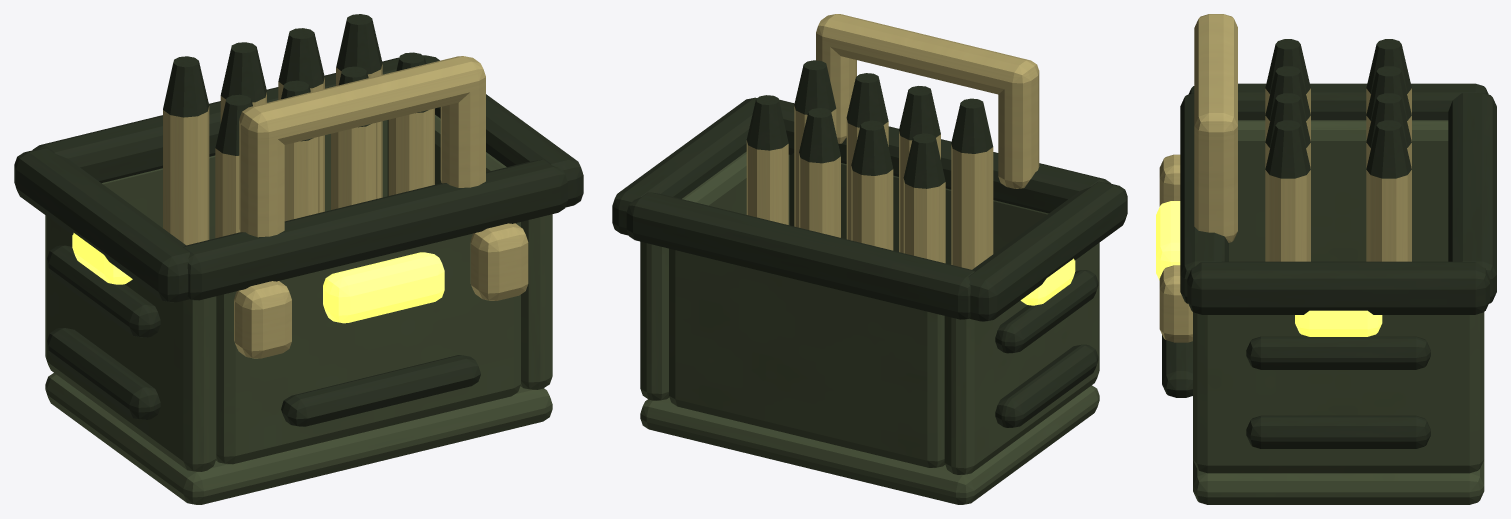
The model's file is pickup_ammo_box.glb.
The picture shows the model from 3 angles, left to right: view 1: azimuth 30°, elevation 25°; view 2: azimuth 150°, elevation 25°; view 3: azimuth 270°, elevation 25°; orthographic projection. The views are drawn at different scales.
Visible parts, largest first — view 1: pickup_ammo_box_wall_f, pickup_ammo_box_rim_f, pickup_ammo_box_wall_l, pickup_ammo_box_floor, pickup_ammo_box_rim_l, pickup_ammo_box_handle_bar, pickup_ammo_box_stencil, pickup_ammo_box_badge, pickup_ammo_box_rim_b, pickup_ammo_box_round_r10, pickup_ammo_box_wall_r, pickup_ammo_box_rib_l0 (+19 smaller); view 2: pickup_ammo_box_wall_b, pickup_ammo_box_rim_b, pickup_ammo_box_wall_l, pickup_ammo_box_floor, pickup_ammo_box_rim_l, pickup_ammo_box_handle_bar, pickup_ammo_box_wall_r, pickup_ammo_box_rim_r, pickup_ammo_box_round_r00, pickup_ammo_box_rim_f, pickup_ammo_box_handle_post_l, pickup_ammo_box_rib_l0 (+19 smaller); view 3: pickup_ammo_box_wall_r, pickup_ammo_box_wall_l, pickup_ammo_box_rim_r, pickup_ammo_box_floor, pickup_ammo_box_rim_b, pickup_ammo_box_rib_r0, pickup_ammo_box_rib_r1, pickup_ammo_box_handle_bar, pickup_ammo_box_rim_l, pickup_ammo_box_handle_post_r, pickup_ammo_box_round_r03, pickup_ammo_box_round_r13 (+14 smaller).
Part boxes in pixels (x1,y1,x2,y2): pickup_ammo_box_wall_f: (216,222,520,464); pickup_ammo_box_rim_f: (183,159,567,300); pickup_ammo_box_wall_l: (45,215,216,471); pickup_ammo_box_floor: (45,373,552,504); pickup_ammo_box_rim_l: (14,148,189,302); pickup_ammo_box_handle_bar: (239,56,485,144); pickup_ammo_box_stencil: (281,355,480,426); pickup_ammo_box_badge: (323,252,444,323); pickup_ammo_box_rim_b: (33,57,399,183); pickup_ammo_box_round_r10: (163,106,209,245); pickup_ammo_box_wall_r: (387,115,552,389); pickup_ammo_box_rib_l0: (47,328,160,419); pickup_ammo_box_wall_b: (669,248,945,467); pickup_ammo_box_rim_b: (626,192,974,319); pickup_ammo_box_wall_l: (944,243,1099,474); pickup_ammo_box_floor: (640,385,1099,504); pickup_ammo_box_rim_l: (968,181,1127,321); pickup_ammo_box_handle_bar: (816,14,1039,94); pickup_ammo_box_wall_r: (640,151,789,400); pickup_ammo_box_rim_r: (612,97,756,235); pickup_ammo_box_round_r00: (951,144,993,269); pickup_ammo_box_rim_f: (779,99,1110,213); pickup_ammo_box_handle_post_l: (998,80,1039,188); pickup_ammo_box_rib_l0: (995,344,1098,427); pickup_ammo_box_wall_r: (1193,312,1484,473); pickup_ammo_box_wall_l: (1229,120,1448,261); pickup_ammo_box_rim_r: (1187,261,1489,314); pickup_ammo_box_floor: (1193,460,1484,504); pickup_ammo_box_rim_b: (1448,93,1496,303); pickup_ammo_box_rib_r0: (1246,415,1430,448); pickup_ammo_box_rib_r1: (1246,336,1430,369); pickup_ammo_box_handle_bar: (1194,14,1237,140); pickup_ammo_box_rim_l: (1188,83,1488,120); pickup_ammo_box_handle_post_r: (1194,134,1237,242); pickup_ammo_box_round_r03: (1265,170,1310,261); pickup_ammo_box_round_r13: (1366,170,1411,261).
Size of the model in its own units: 0.484 by 0.41 by 0.351.
Materials: 4 (3 with a texture image).
